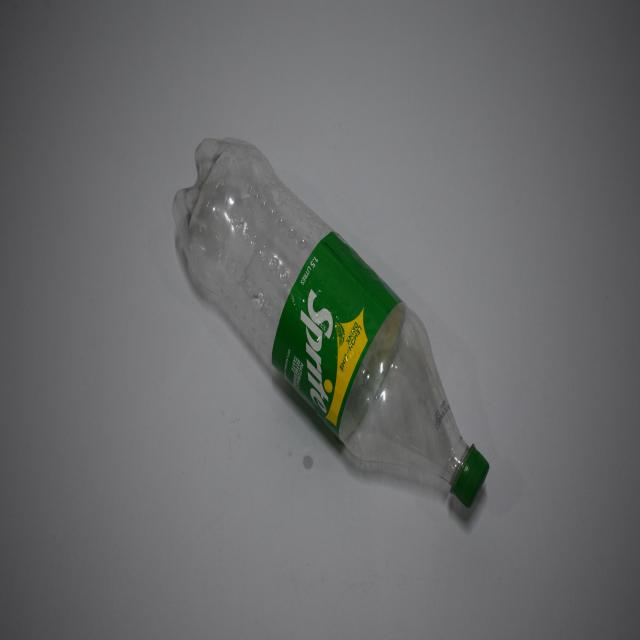bottle: (167, 133, 493, 519)
